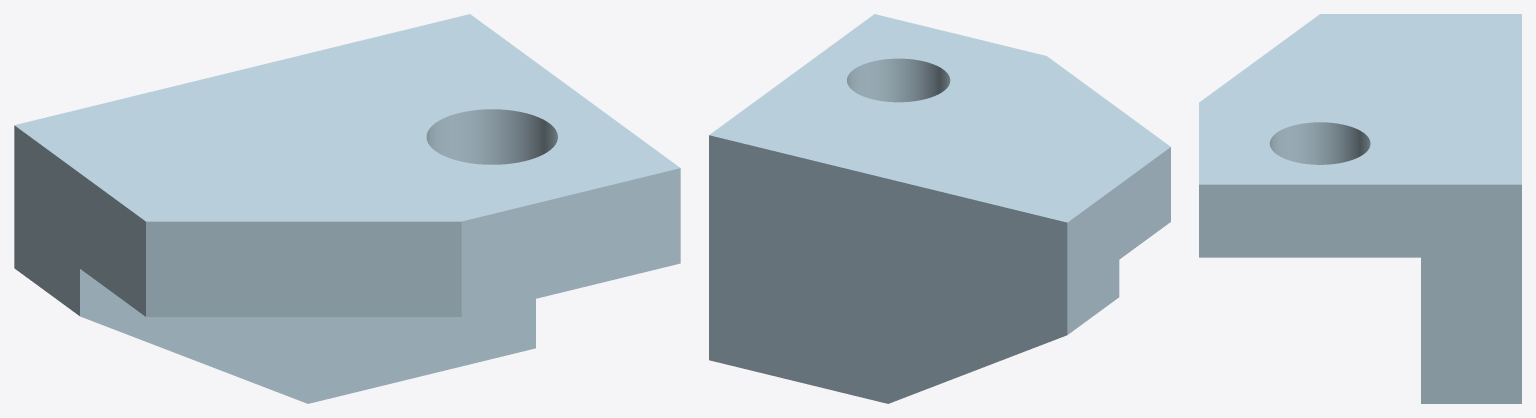
Rendered from Part-Studio-1_1_.gltf.
3 views of the same model, side by side, from view 1: azimuth 30°, elevation 25°; view 2: azimuth 150°, elevation 25°; view 3: azimuth 270°, elevation 25° (orthographic). The views are drawn at different scales.
Parts seen in each view (by area): view 1: Part 1; view 2: Part 1; view 3: Part 1.
Boxes of the visible parts, <box> form: Part 1: <box>14,14,680,403</box>; Part 1: <box>709,14,1170,403</box>; Part 1: <box>1199,14,1521,403</box>.
Size of the model in its own units: 0.127 by 0.0762 by 0.1016.
